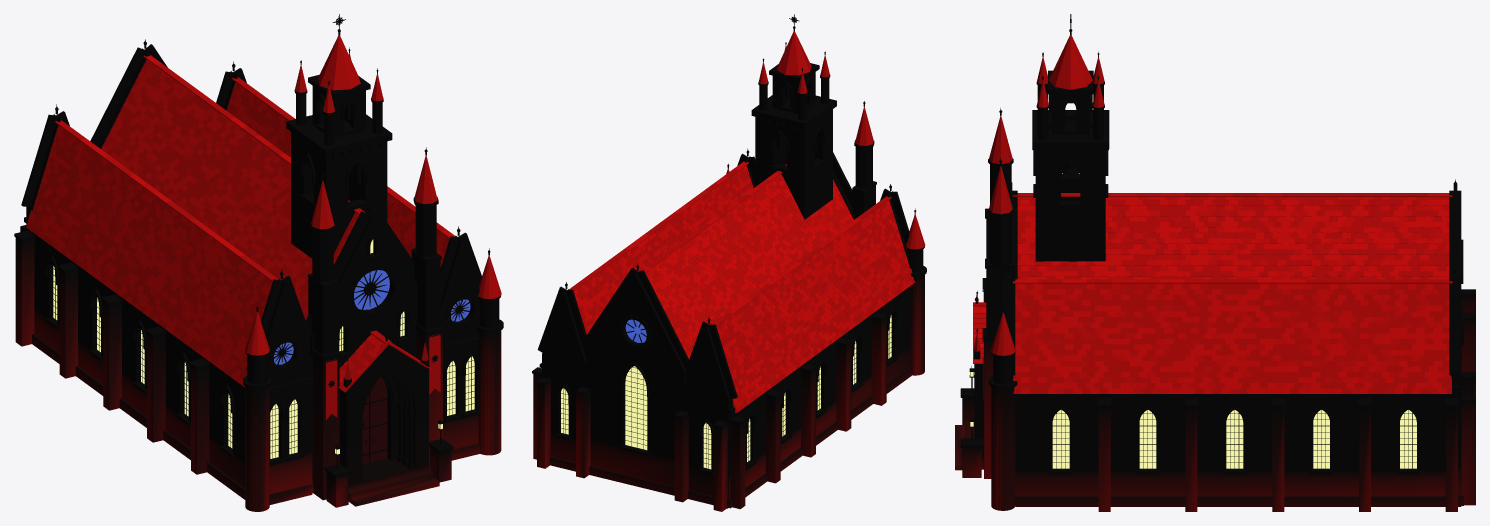
File: SilverbrookTempleOfTheDawn.fbx
3 views of the same model, side by side, from view 1: azimuth 30°, elevation 25°; view 2: azimuth 150°, elevation 25°; view 3: azimuth 270°, elevation 25° (orthographic). The views are drawn at different scales.
Visible parts, largest first — view 1: SM_SBTempleOfTheDawn_Masonry, SM_SBTempleOfTheDawn_Roof, SM_SBTempleOfTheDawn_Trim, SM_SBTempleOfTheDawn_Details; view 2: SM_SBTempleOfTheDawn_Masonry, SM_SBTempleOfTheDawn_Roof, SM_SBTempleOfTheDawn_Trim, SM_SBTempleOfTheDawn_Details; view 3: SM_SBTempleOfTheDawn_Roof, SM_SBTempleOfTheDawn_Masonry, SM_SBTempleOfTheDawn_Trim, SM_SBTempleOfTheDawn_Details.
Part boxes in pixels (box(x1,y1,x2,y2)): SM_SBTempleOfTheDawn_Masonry: box(15, 48, 501, 511); SM_SBTempleOfTheDawn_Roof: box(26, 35, 501, 392); SM_SBTempleOfTheDawn_Trim: box(14, 44, 503, 507); SM_SBTempleOfTheDawn_Details: box(53, 14, 490, 469); SM_SBTempleOfTheDawn_Masonry: box(533, 72, 924, 511); SM_SBTempleOfTheDawn_Roof: box(569, 31, 925, 412); SM_SBTempleOfTheDawn_Trim: box(532, 63, 926, 508); SM_SBTempleOfTheDawn_Details: box(561, 14, 916, 469); SM_SBTempleOfTheDawn_Roof: box(973, 35, 1452, 393); SM_SBTempleOfTheDawn_Masonry: box(974, 85, 1475, 511); SM_SBTempleOfTheDawn_Trim: box(955, 70, 1463, 506); SM_SBTempleOfTheDawn_Details: box(969, 14, 1457, 468).
Bounding box in the file's own units: 1230 × 1994 × 2160.
